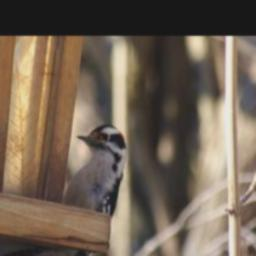Woodpecker: (0, 123, 127, 256)
